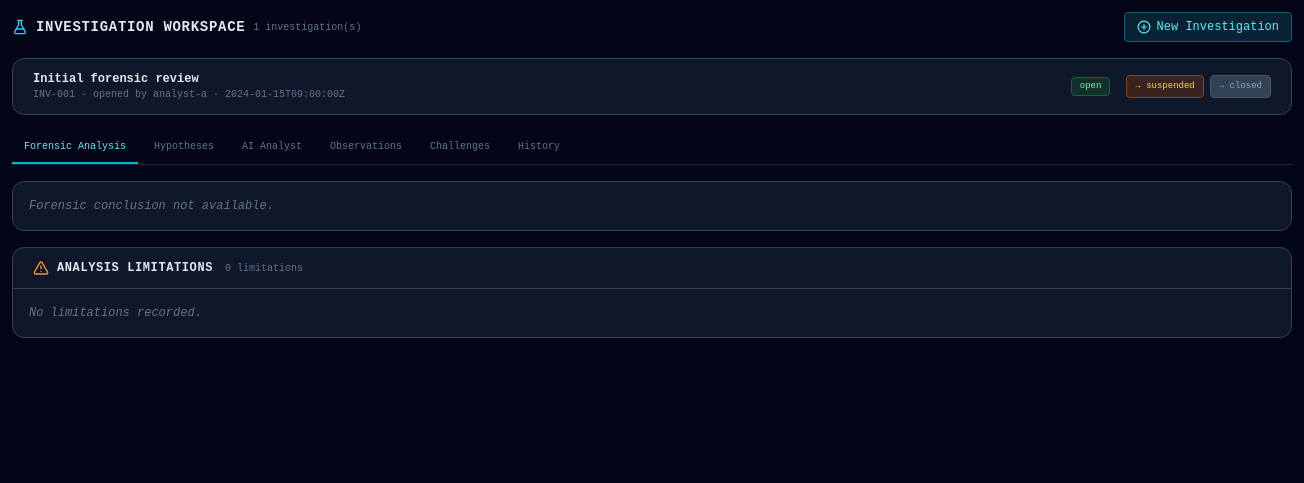
Scenario: InvestigationWorkspace › switches to observations tab on click
Click the button with test id "tab-observations": click(366, 148) [318, 131, 414, 164]
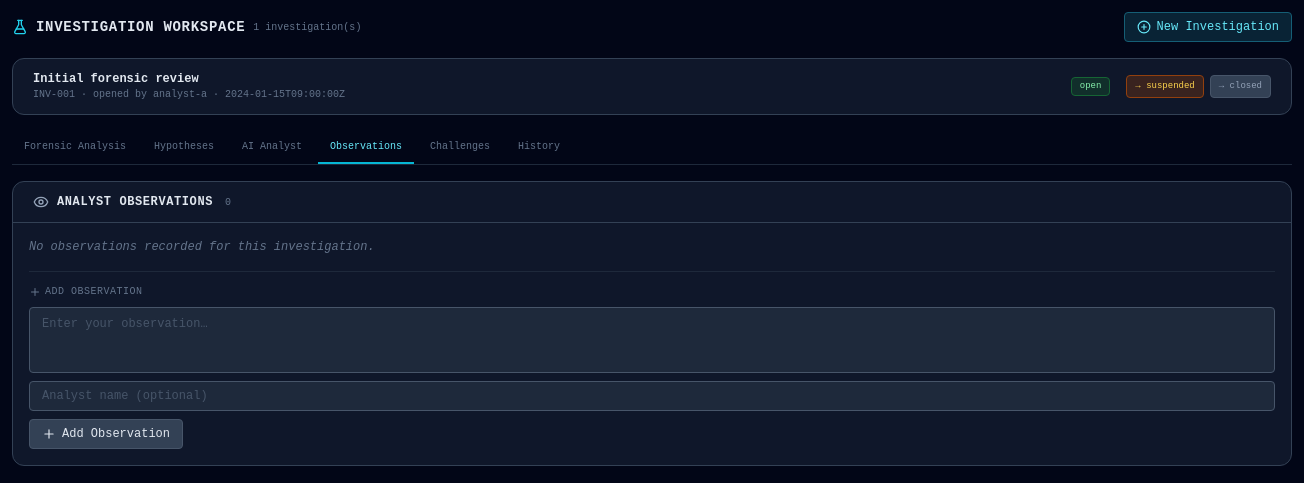
Expected: the element with test id "tab-content-observations" is shown, [12, 181, 1292, 466]
